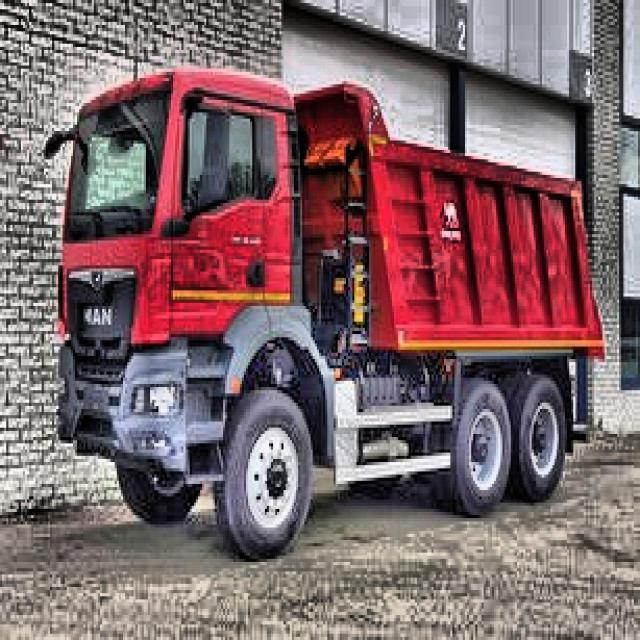dump_truck: (27, 67, 610, 549)
